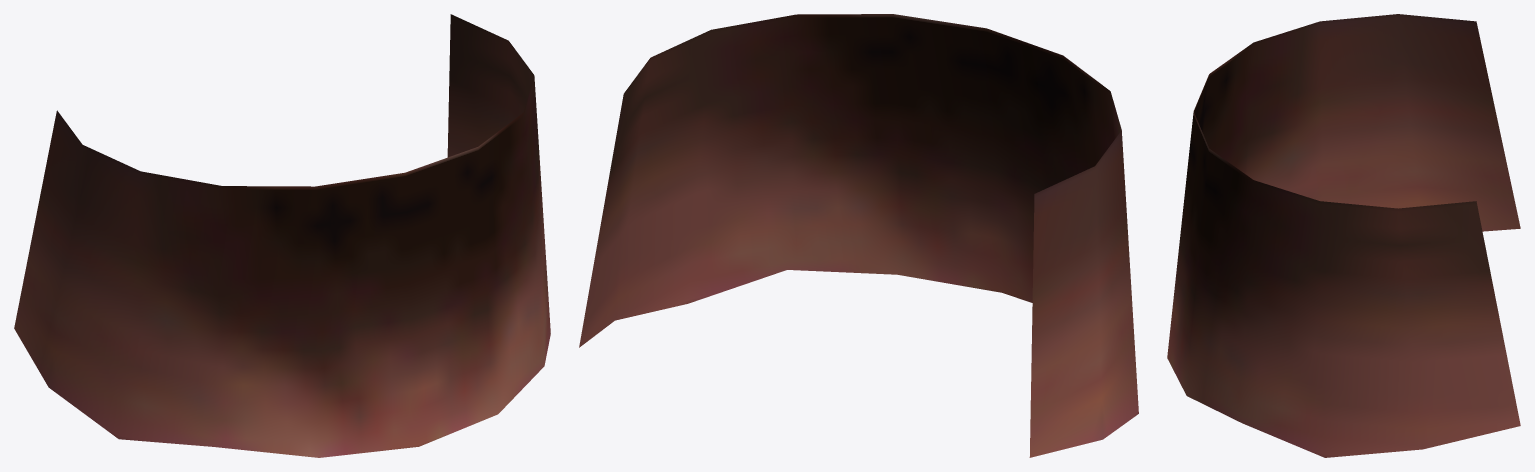
3 renders of one model, left to right at view 1: azimuth 30°, elevation 25°; view 2: azimuth 150°, elevation 25°; view 3: azimuth 270°, elevation 25°, orthographic. The views are drawn at different scales.
Parts seen in each view (by area): view 1: neck; view 2: neck; view 3: neck.
Part boxes in pixels (x1,y1,x2,y2): neck: [14, 14, 550, 457]; neck: [579, 14, 1138, 457]; neck: [1167, 14, 1520, 457].
Bounding box in the file's own units: 9.6 × 5.2 × 6.72.
